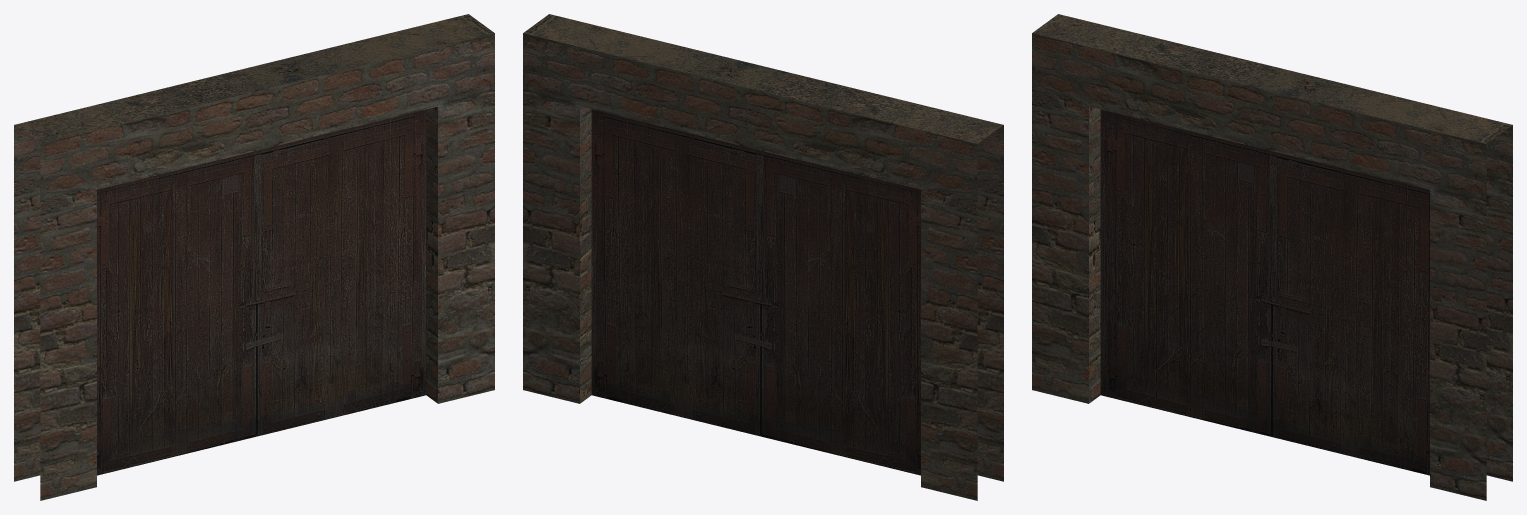
Rendered from garage_door_frame_hr_2.dae.
The picture shows the model from 3 angles, left to right: view 1: azimuth 30°, elevation 25°; view 2: azimuth 150°, elevation 25°; view 3: azimuth 330°, elevation 25°; orthographic projection.
Parts seen in each view (by area): view 1: garage_door_hm_5, garage_door_frame_hr_2; view 2: garage_door_hm_5, garage_door_frame_hr_2; view 3: garage_door_hm_5, garage_door_frame_hr_2.
Boxes of the visible parts, x1,y1,x2,y2 form: garage_door_hm_5: [97, 109, 426, 475]; garage_door_frame_hr_2: [14, 14, 494, 500]; garage_door_hm_5: [591, 109, 920, 475]; garage_door_frame_hr_2: [523, 14, 1003, 500]; garage_door_hm_5: [1100, 109, 1429, 475]; garage_door_frame_hr_2: [1032, 14, 1512, 500].
Size of the model in its own units: 4 by 0.4 by 3.
3 materials, 3 textured.
